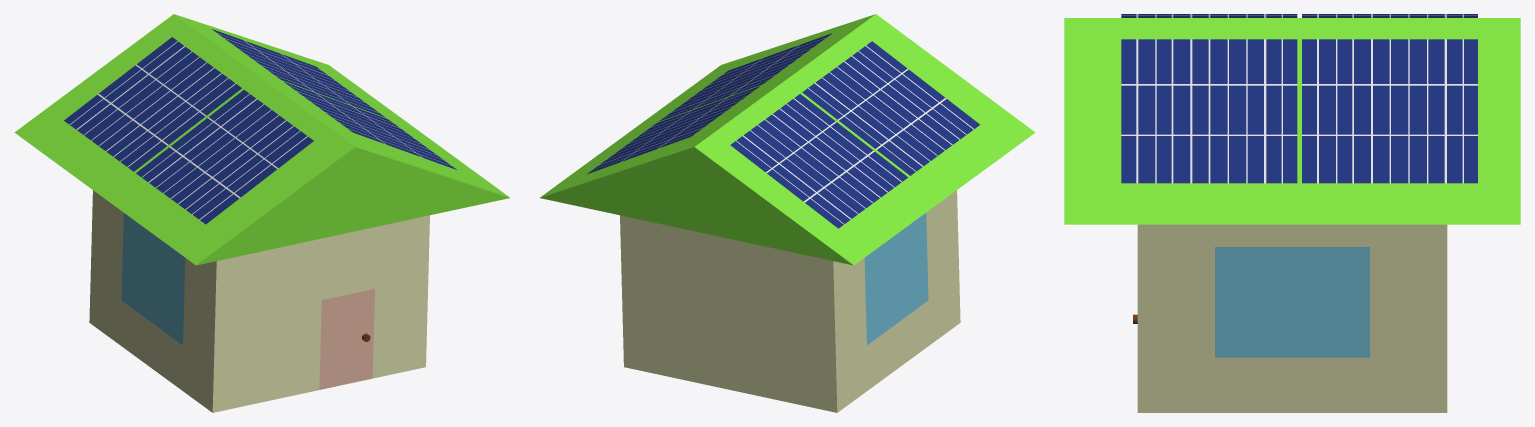
File: 19_house_eco_model 3.fbx
The picture shows the model from 3 angles, left to right: view 1: azimuth 30°, elevation 25°; view 2: azimuth 150°, elevation 25°; view 3: azimuth 270°, elevation 25°; orthographic projection. The views are drawn at different scales.
Visible parts, largest first — view 1: 平面.001; view 2: 平面.001; view 3: 平面.001.
Boxes of the visible parts, x1=… form: 平面.001: x1=14, y1=14, x2=509, y2=412; 平面.001: x1=540, y1=14, x2=1035, y2=412; 平面.001: x1=1064, y1=14, x2=1520, y2=412.
Bounding box in the file's own units: 134 × 108 × 134.
